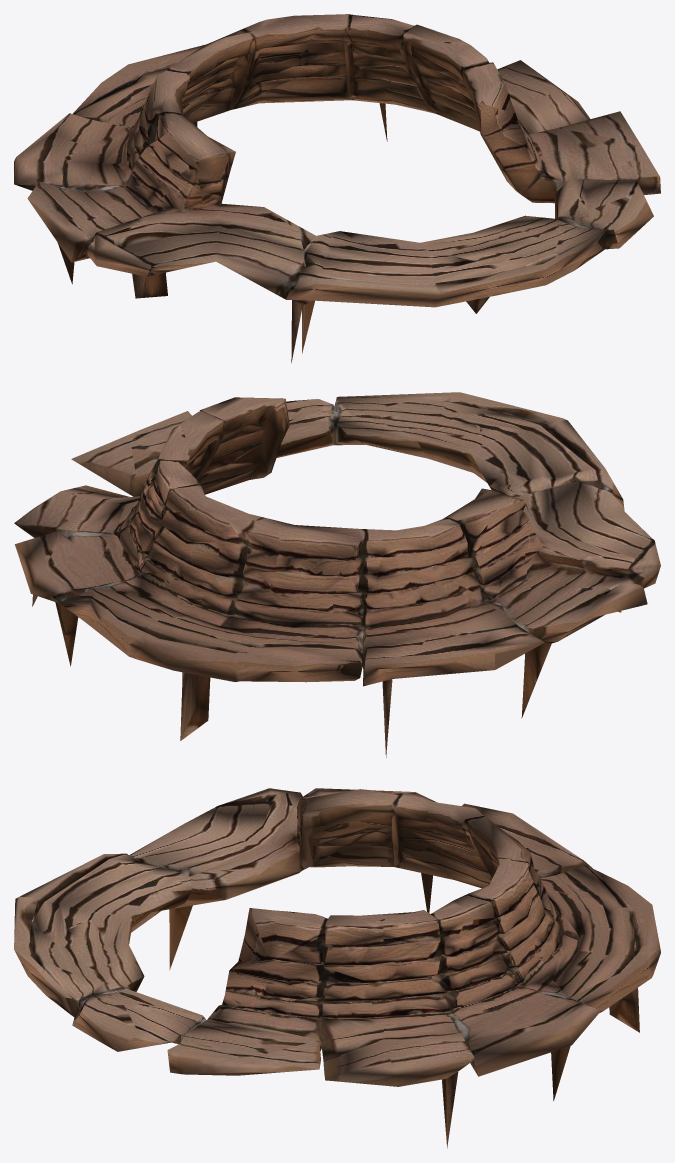
The model's file is treebench_lod1.glb.
3 renders of one model, top to bottom at view 1: azimuth 30°, elevation 25°; view 2: azimuth 150°, elevation 25°; view 3: azimuth 270°, elevation 25°, orthographic. The views are drawn at different scales.
Visible parts, largest first — view 1: tripo_node_6f01738a-4bdf-4865-9e24-fbcca63d4fdb; view 2: tripo_node_6f01738a-4bdf-4865-9e24-fbcca63d4fdb; view 3: tripo_node_6f01738a-4bdf-4865-9e24-fbcca63d4fdb.
Boxes of the visible parts, bbox=[...] form: tripo_node_6f01738a-4bdf-4865-9e24-fbcca63d4fdb: bbox=[14, 14, 660, 363]; tripo_node_6f01738a-4bdf-4865-9e24-fbcca63d4fdb: bbox=[14, 392, 660, 757]; tripo_node_6f01738a-4bdf-4865-9e24-fbcca63d4fdb: bbox=[14, 788, 660, 1148].
Bounding box in the file's own units: 1.66 × 0.4976 × 1.67.
1 material, 1 textured.
